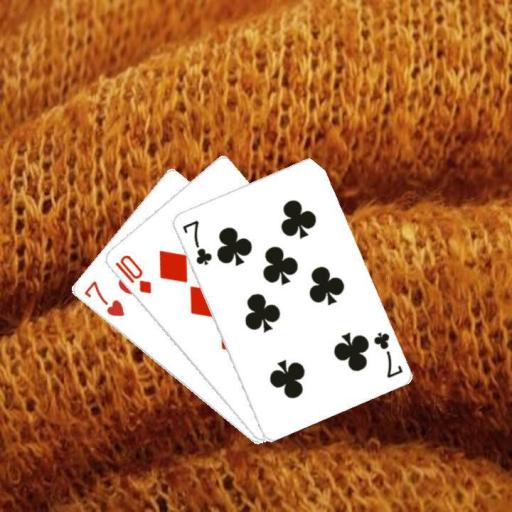10D: (112, 252, 153, 295)
7C: (370, 329, 405, 380), (179, 217, 214, 267)
7H: (80, 278, 126, 319)
